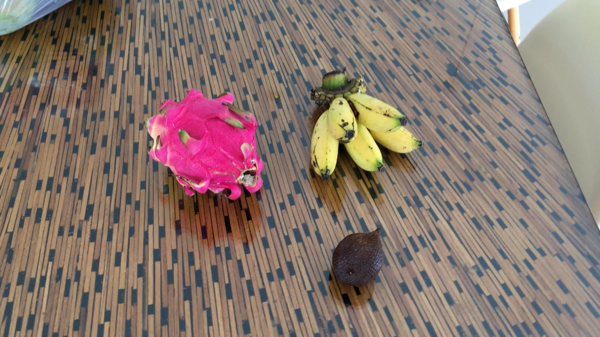banana: (308, 70, 424, 179)
dragon fruit: (147, 87, 265, 205)
snake fruit: (332, 226, 389, 284)
